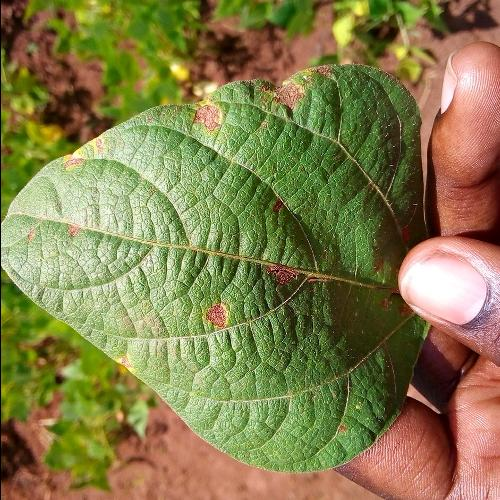embun tepung: (123, 133, 388, 334)
